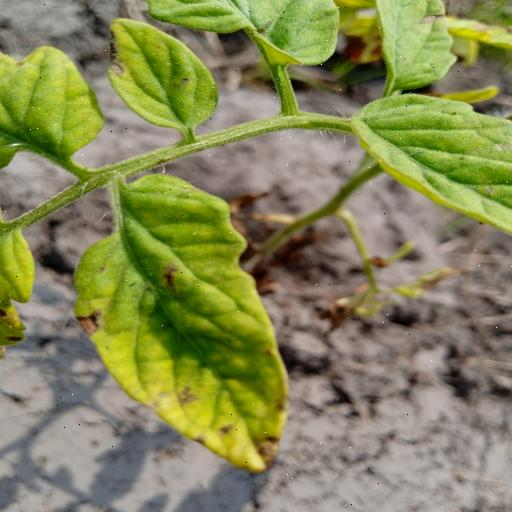Tomato_Brown_Spots: (63, 170, 298, 475), (347, 89, 512, 243), (104, 11, 221, 138)
